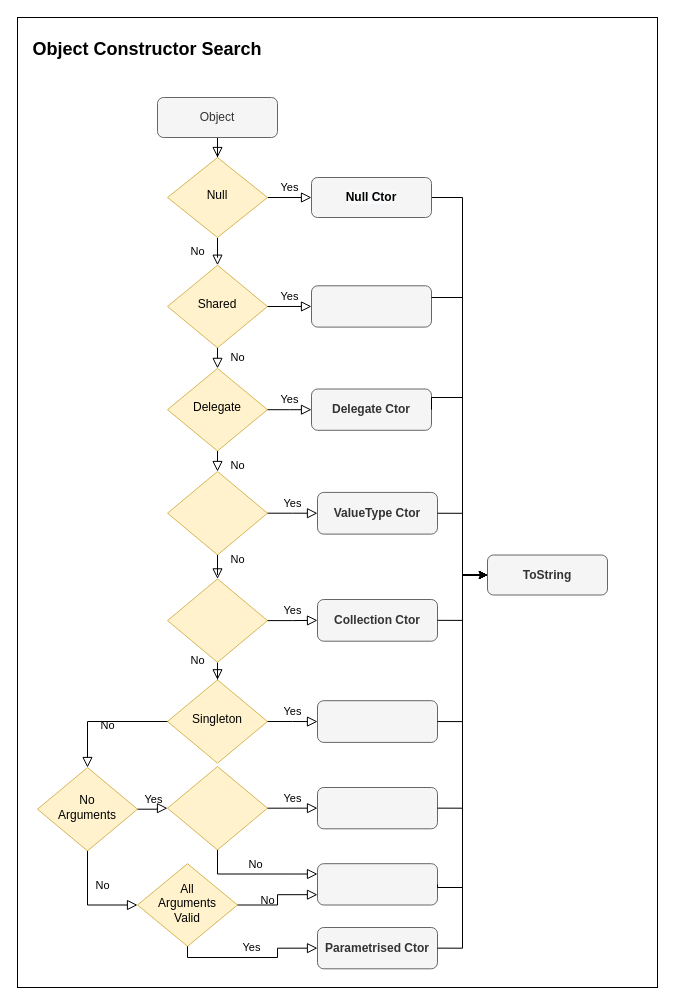
The diagram is 675 pixels wide and 1005 high, and some of its shapes have lost their labels. Here are the shapes that lost their labels. From the top down, the centre of each, then its label:
At point (371, 306): "Shared Argument Ctor".
At point (217, 512): "Value Type".
At point (217, 620): "Enumerable".
At point (377, 721): "Singleton Ctor".
At point (217, 808): "HasPublicCtor".
At point (377, 807): "Default Ctor".
At point (377, 884): "Invalid Ctor".
